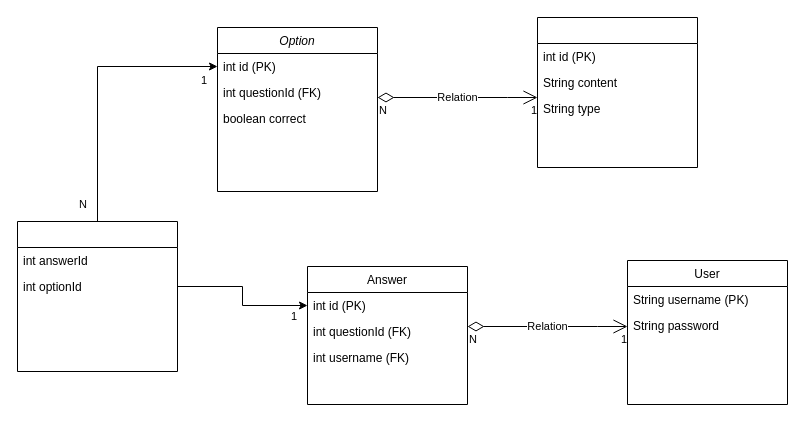
The diagram is 805 pixels wide and 422 high, and some of its shapes have lost their labels. Each missing label, with the box of its shape:
answer_option: (16, 220, 178, 372)
Question: (536, 16, 698, 168)
